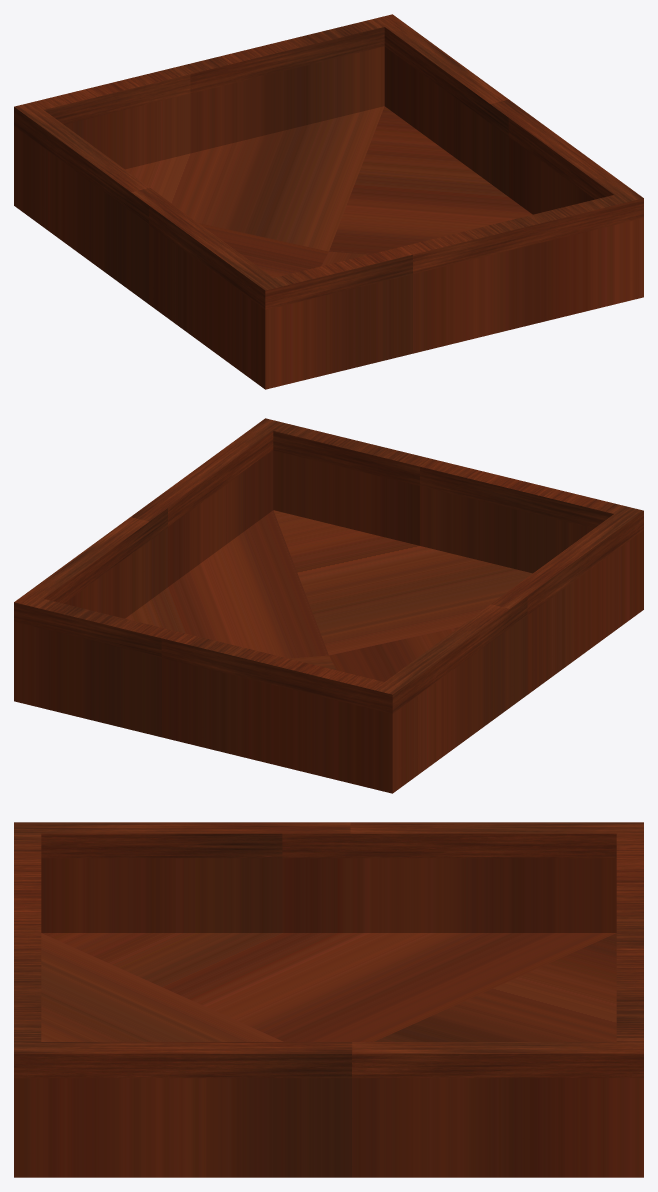
The model's file is largeboundingboxwithnobs.obj.
3 views of the same model, one above another, from view 1: azimuth 30°, elevation 25°; view 2: azimuth 150°, elevation 25°; view 3: azimuth 270°, elevation 25° (orthographic). The views are drawn at different scales.
Parts seen in each view (by area): view 1: Cube_Cube.001; view 2: Cube_Cube.001; view 3: Cube_Cube.001.
Boxes of the visible parts, x1,y1,x2,y2 form: Cube_Cube.001: (14, 14, 643, 389); Cube_Cube.001: (14, 418, 643, 793); Cube_Cube.001: (14, 822, 643, 1177).
Bounding box in the file's own units: 20 × 5 × 23.
